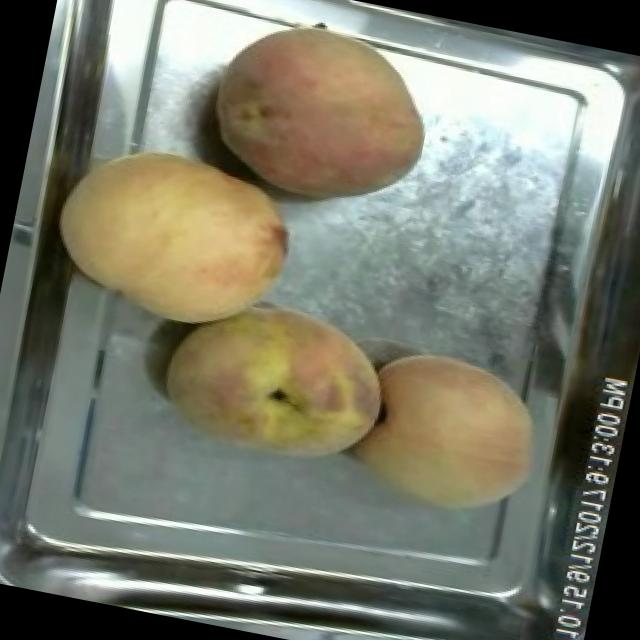Fruit: (31, 118, 312, 350), (192, 0, 452, 230), (147, 274, 404, 486), (338, 330, 564, 540)
